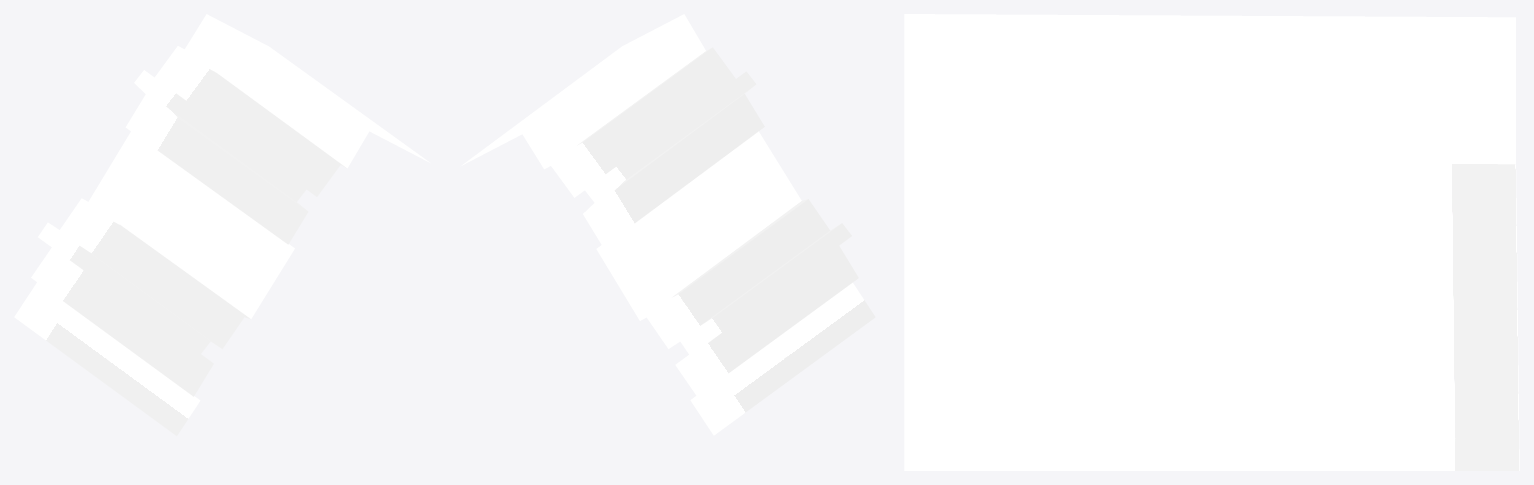
3 renders of one model, left to right at view 1: azimuth 30°, elevation 25°; view 2: azimuth 150°, elevation 25°; view 3: azimuth 270°, elevation 25°, orthographic. The views are drawn at different scales.
Parts seen in each view (by area): view 1: BuildingMaster_1974194120234463548900000000_0; view 2: BuildingMaster_1974194120234463548900000000_0; view 3: BuildingMaster_1974194120234463548900000000_0.
Part boxes in pixels (bbox=[...]): BuildingMaster_1974194120234463548900000000_0: bbox=[14, 14, 429, 435]; BuildingMaster_1974194120234463548900000000_0: bbox=[461, 14, 875, 435]; BuildingMaster_1974194120234463548900000000_0: bbox=[904, 14, 1519, 470].
Size of the model in its own units: 37.75 by 43.5 by 42.
